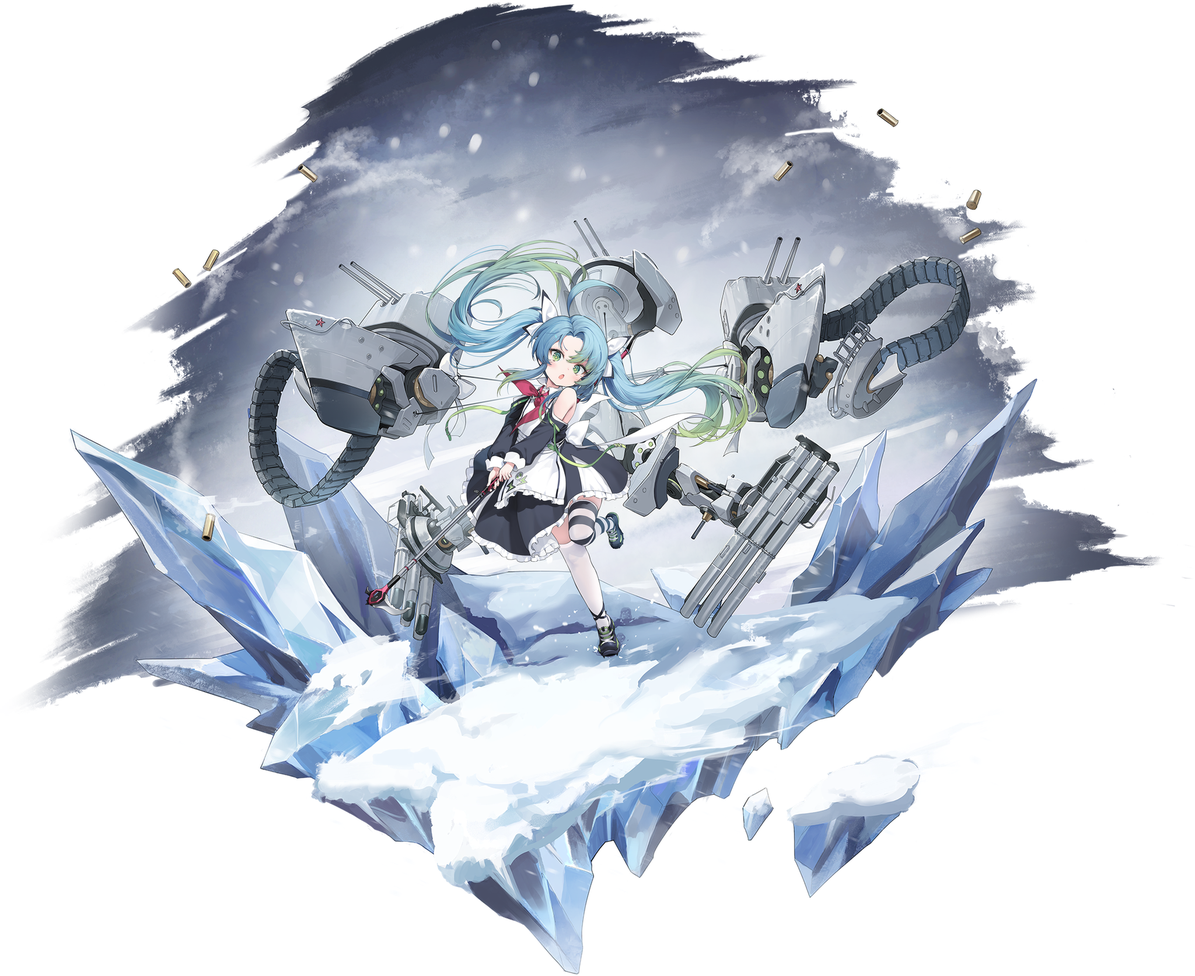person: (407, 226, 712, 684)
